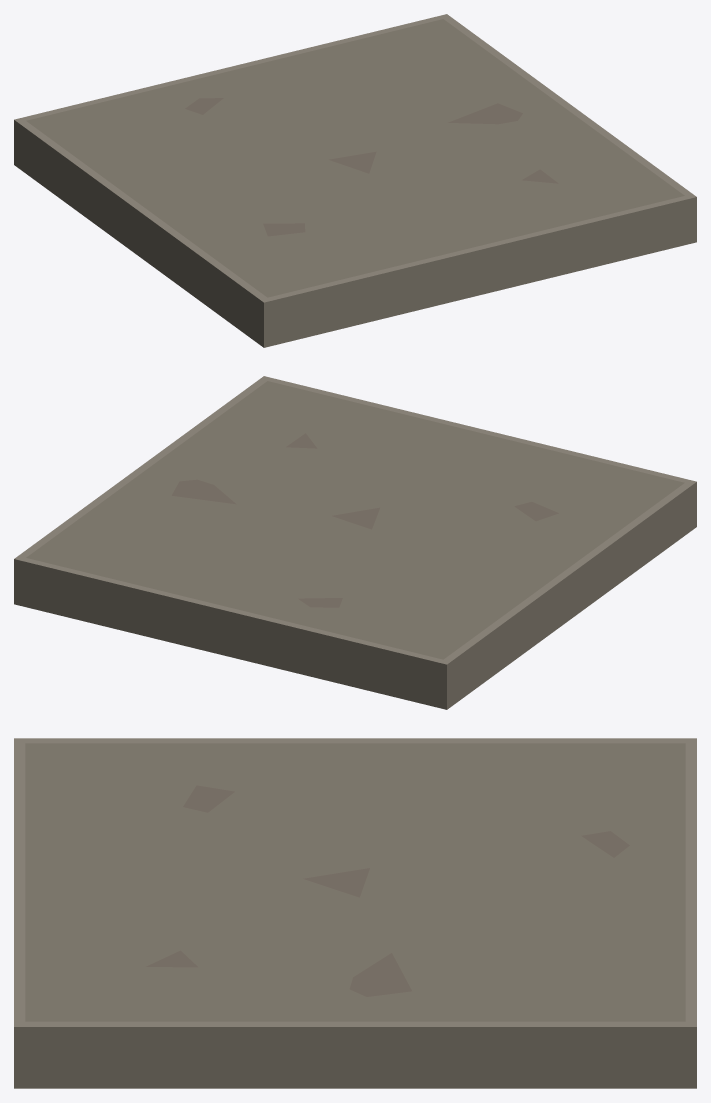
File: ConcrateSlabs_A_2_2.fbx
The picture shows the model from 3 angles, top to bottom: view 1: azimuth 30°, elevation 25°; view 2: azimuth 150°, elevation 25°; view 3: azimuth 270°, elevation 25°; orthographic projection. The views are drawn at different scales.
Visible parts, largest first — view 1: ConcrateSlabs_A_2_2; view 2: ConcrateSlabs_A_2_2; view 3: ConcrateSlabs_A_2_2.
Boxes of the visible parts, bbox=[...] form: ConcrateSlabs_A_2_2: bbox=[14, 14, 696, 347]; ConcrateSlabs_A_2_2: bbox=[14, 376, 696, 709]; ConcrateSlabs_A_2_2: bbox=[14, 738, 696, 1088].
Bounding box in the file's own units: 400 × 40 × 400.
